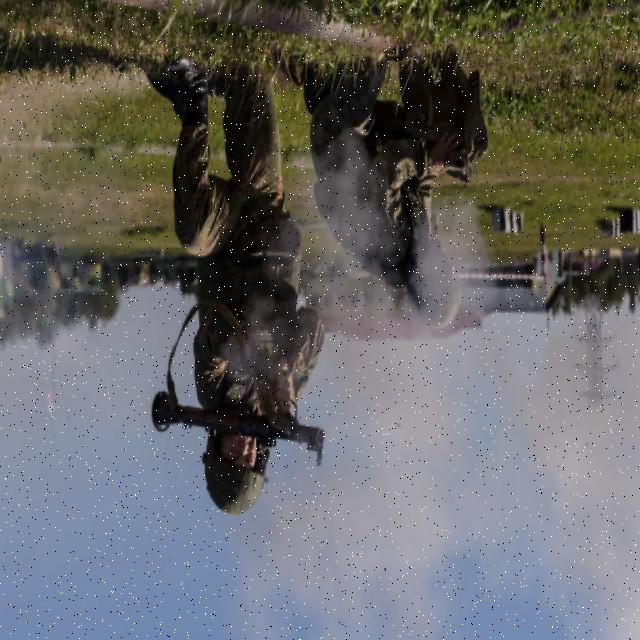bazooka: (137, 382, 338, 488)
